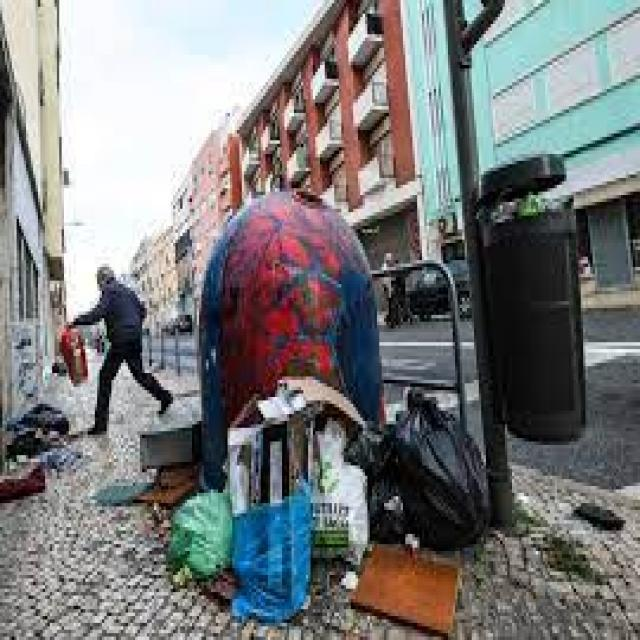garbage: (124, 393, 492, 608)
